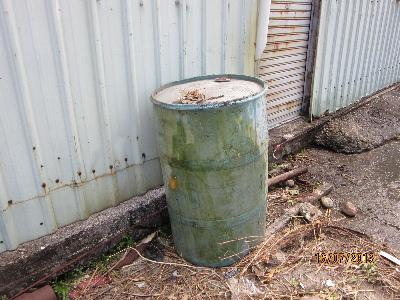bucket: (150, 73, 270, 268)
